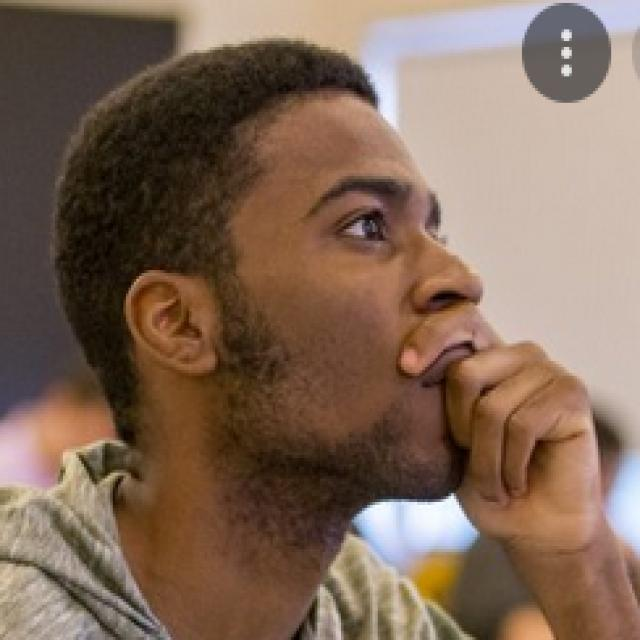Attentive: (188, 85, 487, 505)
